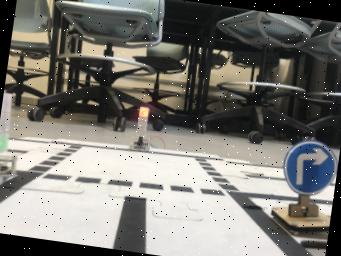right: (271, 140, 337, 232), (271, 140, 337, 232), (271, 140, 337, 232)
street: (0, 138, 312, 256), (0, 138, 312, 256), (0, 138, 312, 256), (313, 180, 335, 206), (313, 180, 335, 206), (313, 180, 335, 206)
traffic_light: (0, 92, 17, 183), (0, 92, 17, 183), (0, 92, 17, 183), (129, 107, 150, 151), (129, 107, 150, 151), (129, 107, 150, 151)
